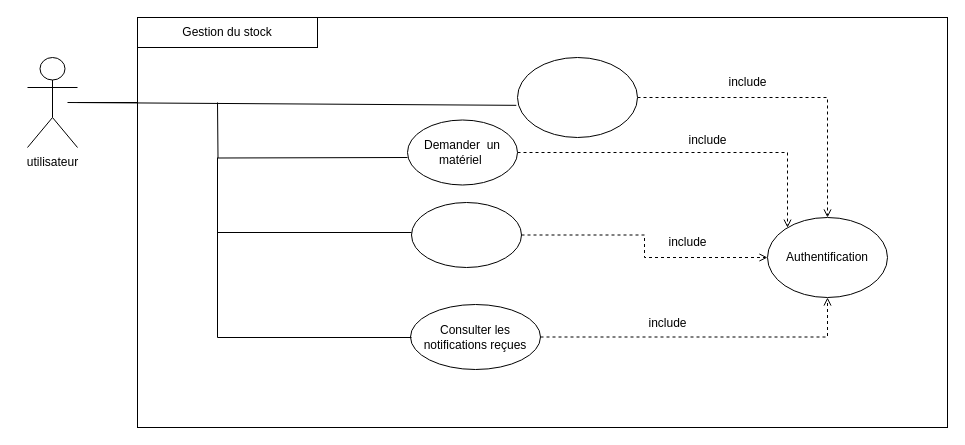
Image size: 965x445. Some labels were removed from this diagram. Here are the shapes that lost their labels. From the top down, the box of each, then its label:
(516, 56, 638, 138): Voir le stock
(410, 202, 522, 268): Demander leur profile
